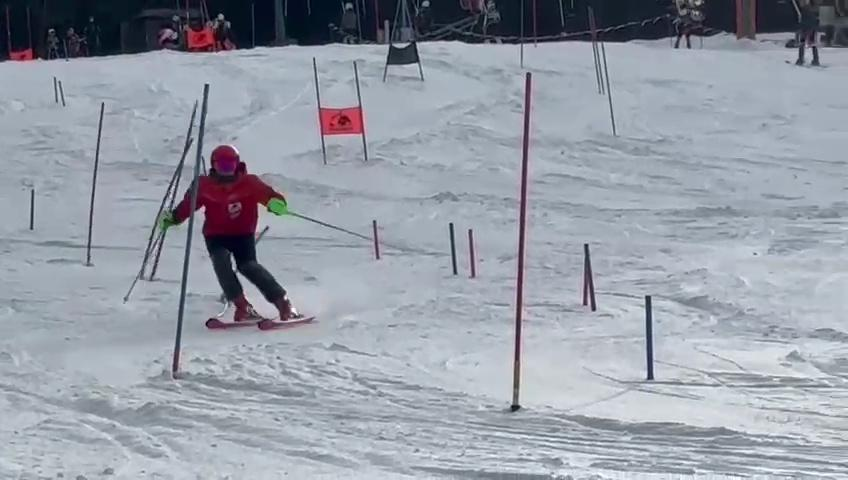gate: (500, 60, 548, 437), (175, 77, 218, 389), (86, 100, 109, 272), (303, 50, 333, 168), (348, 53, 374, 164), (596, 36, 622, 141), (402, 0, 426, 84), (382, 0, 404, 91), (575, 236, 598, 317), (461, 214, 483, 283), (643, 285, 656, 390), (444, 216, 459, 284), (368, 212, 384, 263), (27, 183, 39, 231), (55, 78, 69, 107)
